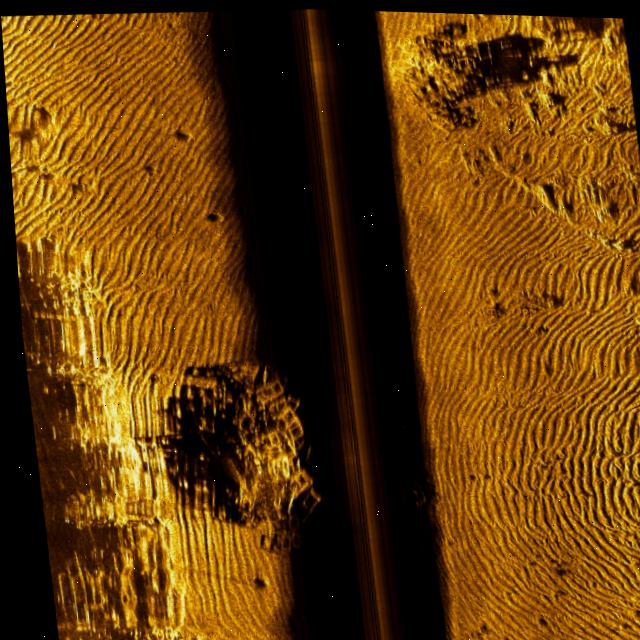artificial reef: (174, 357, 331, 561), (378, 450, 434, 565)
